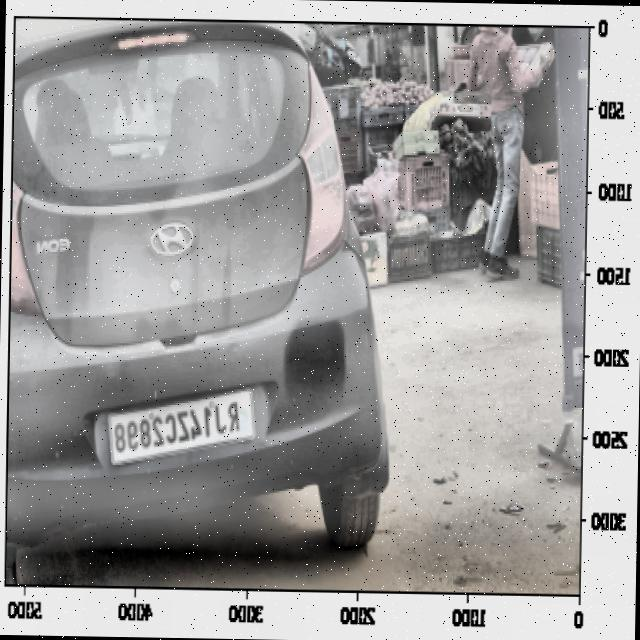license_plate: (112, 392, 245, 462)
